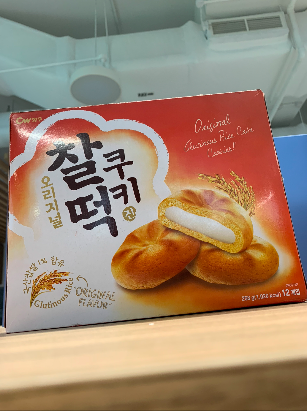Cookies_200-299g: (18, 114, 281, 307)
